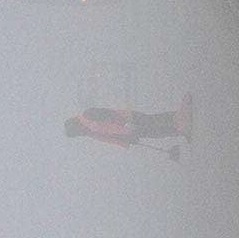person: (64, 106, 194, 144)
